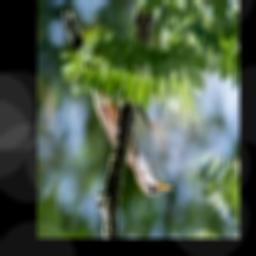Cuckoo: (63, 8, 174, 195)
